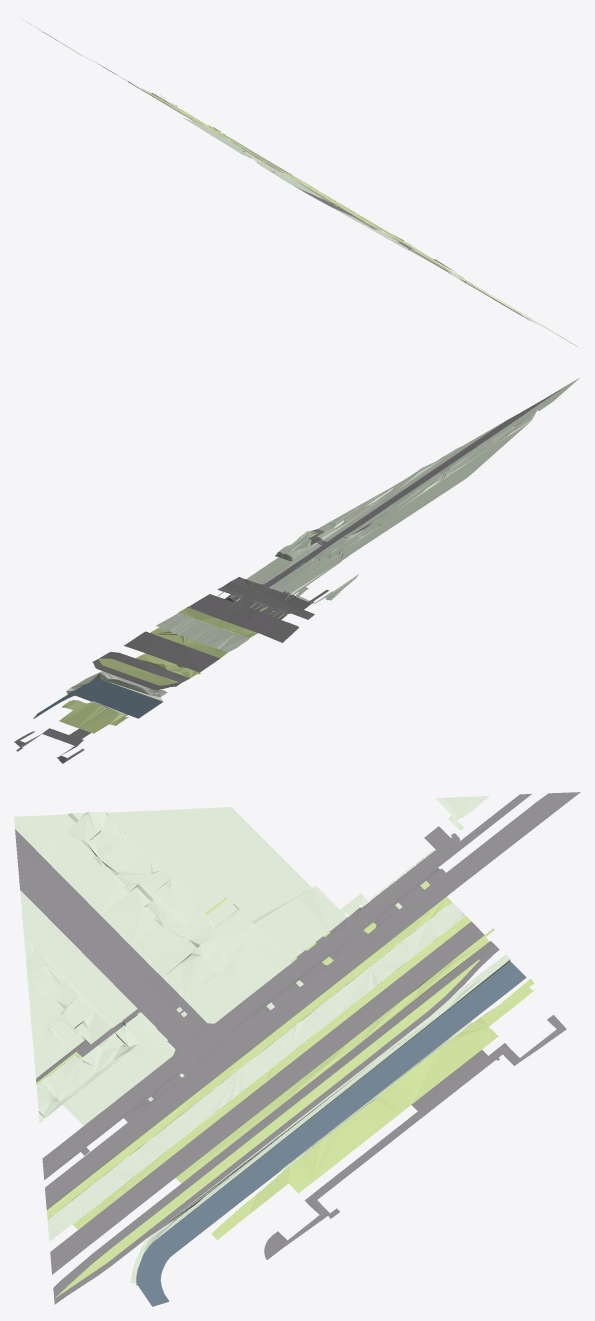
The picture shows the model from 3 angles, top to bottom: view 1: azimuth 30°, elevation 25°; view 2: azimuth 150°, elevation 25°; view 3: azimuth 270°, elevation 25°; orthographic projection. The views are drawn at different scales.
Size of the model in its own units: 150 by 108 by 177.
